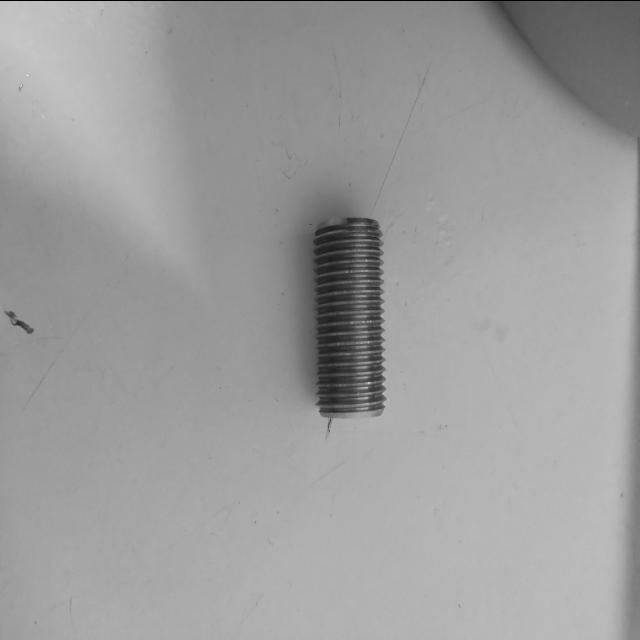Normal: (313, 209, 387, 421)
